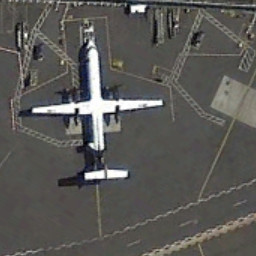Airplane: (25, 26, 165, 207)
